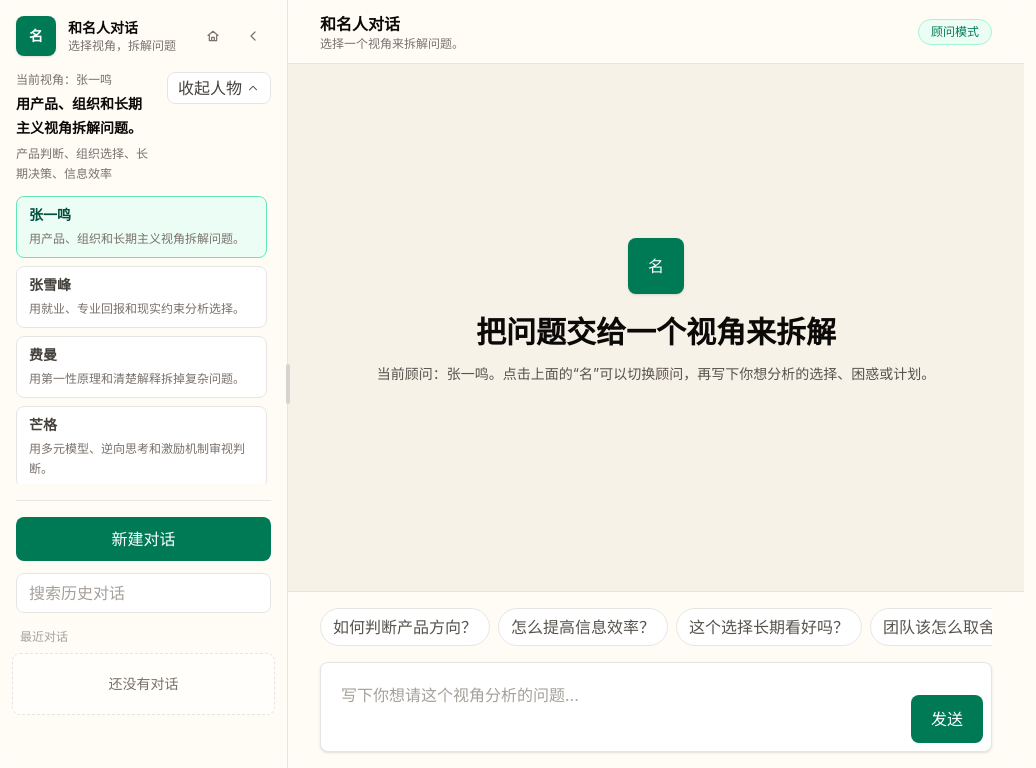
Test case: ChatApp › keeps celebrity personas in the left sidebar and lets the sidebar collapse
Expected: the text "当前视角：张一鸣" is shown, [16,72,112,87]
Expected: the button "张雪峰 用就业、专业回报和现实约束分析选择。" is shown, [16,266,267,328]
Click the button "收起人物" at {"x": 219, "y": 88}, box [167,72,271,104]
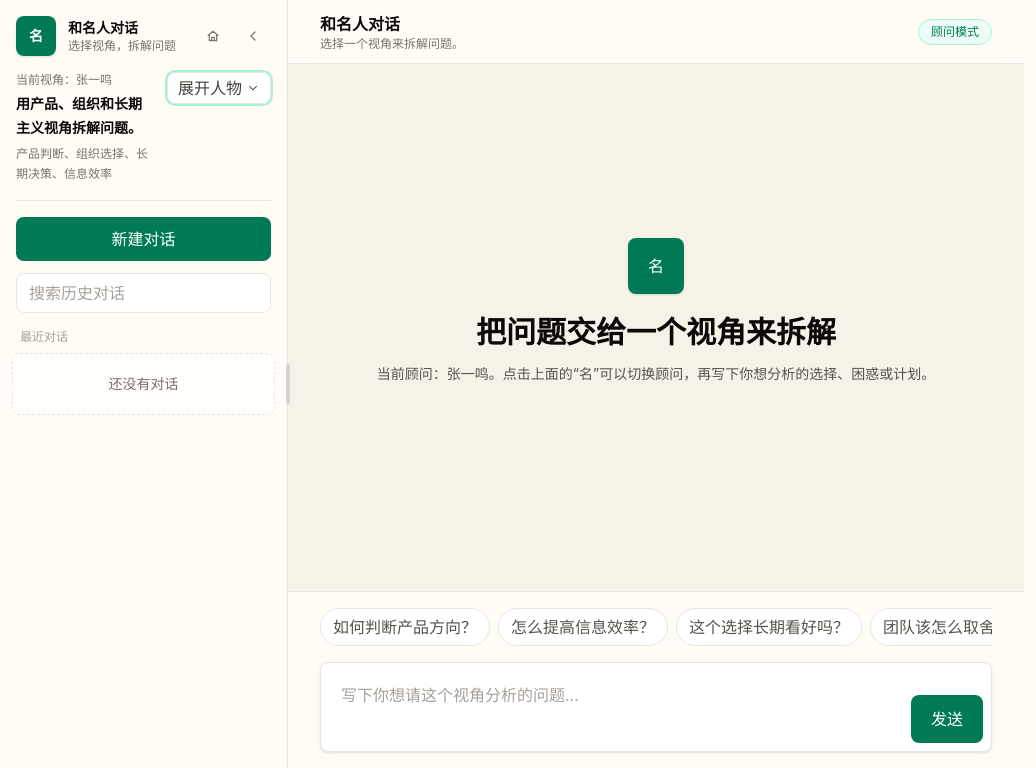
Result: the button "张雪峰" is gone
Click the button "展开人物" at {"x": 219, "y": 88}, box [167,72,271,104]
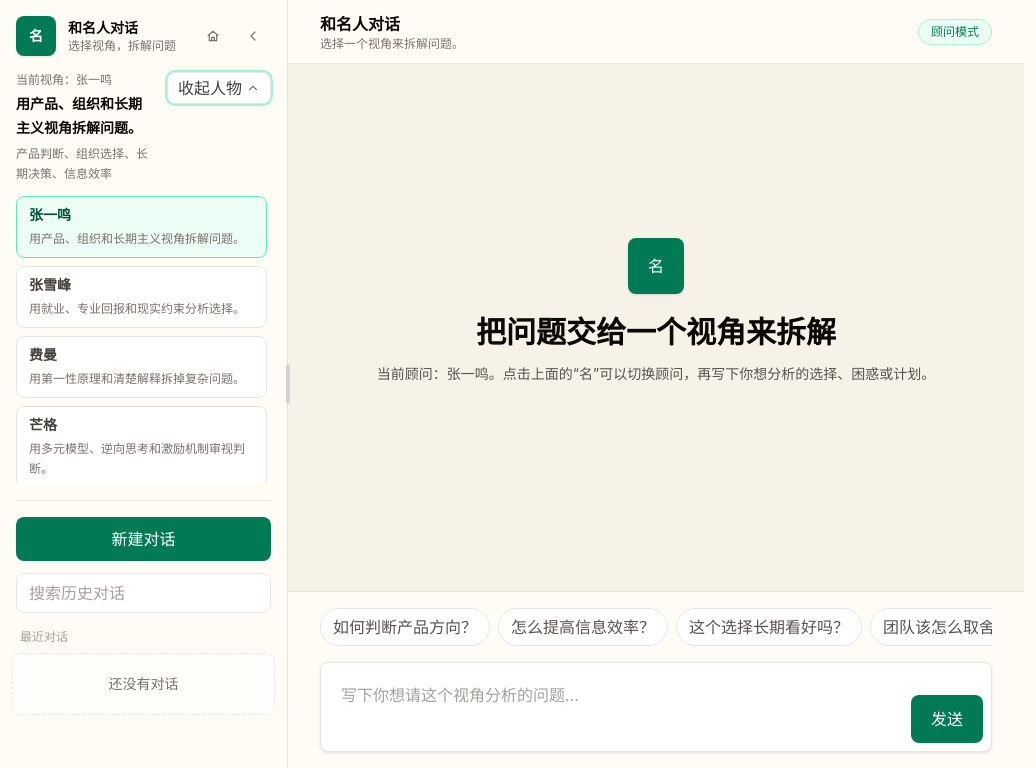
Click the button "张雪峰 用就业、专业回报和现实约束分析选择。" at {"x": 142, "y": 297}, box [16,266,267,328]
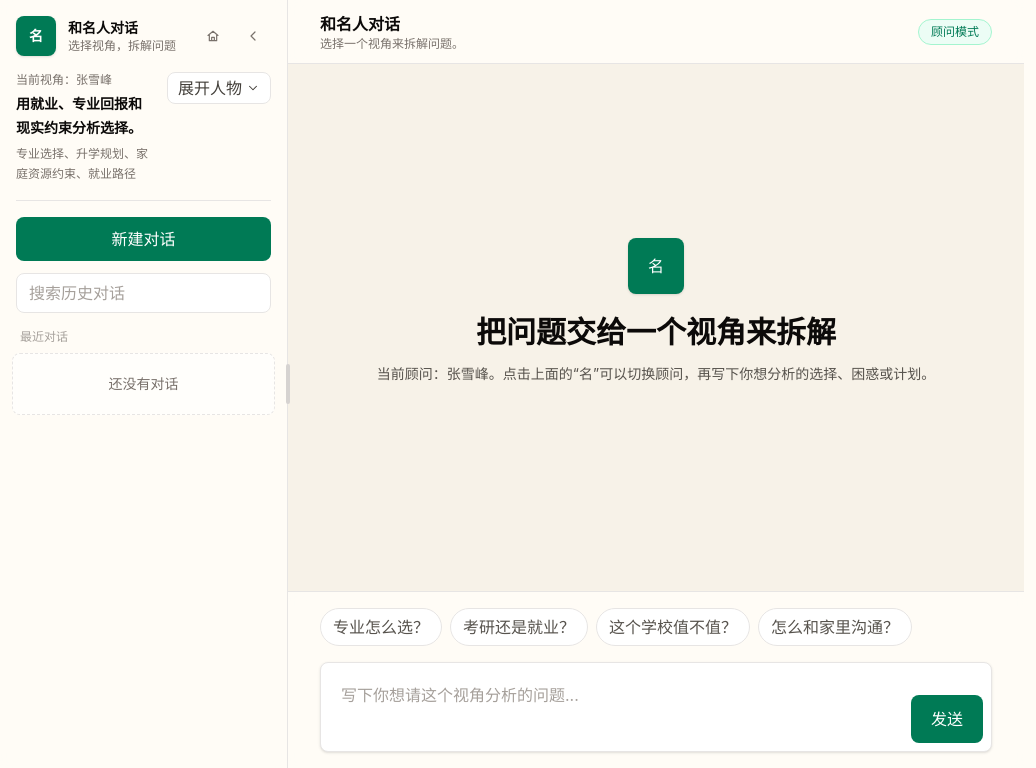
Result: the text "当前视角：张雪峰" is shown at [16,72,112,87]
Click the button named "收起侧栏" at {"x": 253, "y": 36}, box [235,18,271,54]
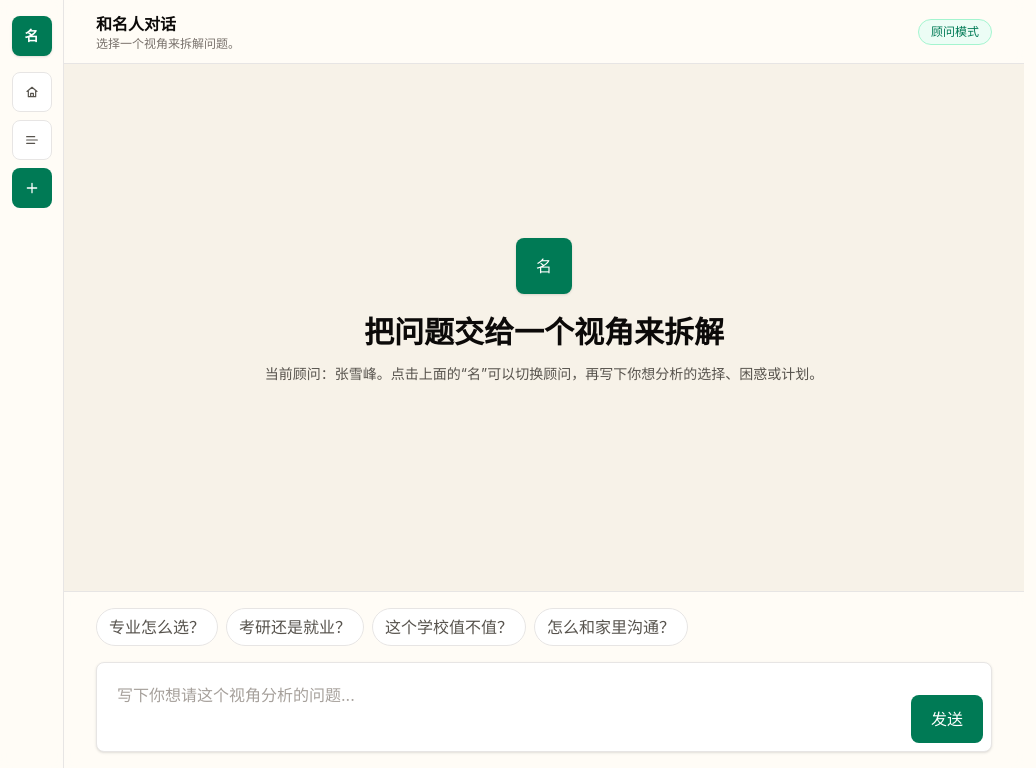
Result: the button named "展开侧栏" is shown at [12,120,52,160]
Result: the element "人物和历史侧栏" is gone
